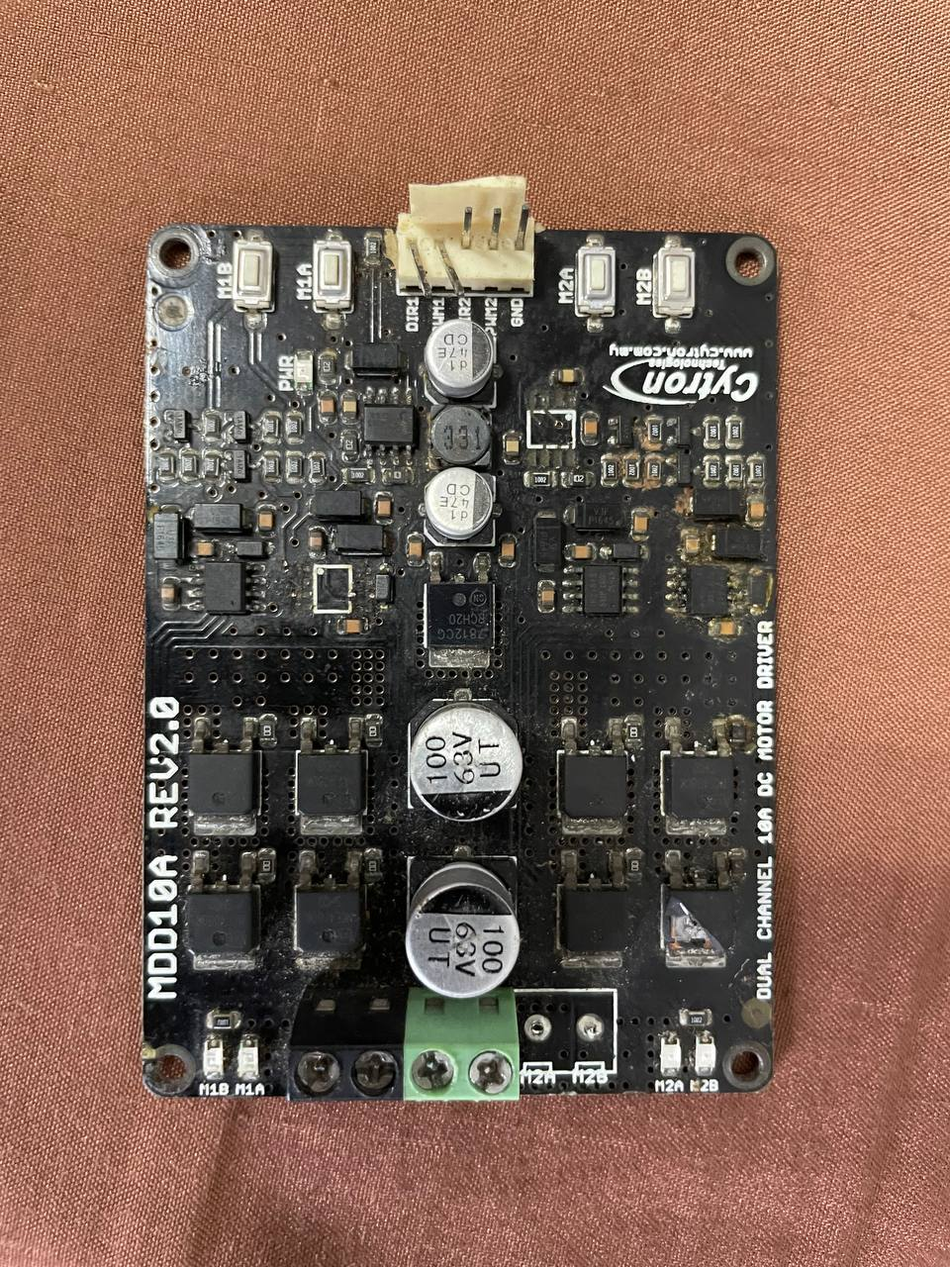bent_pin: (433, 235, 467, 303), (402, 235, 434, 302)
broken_comp: (656, 864, 743, 962)
missing_comp: (522, 404, 582, 455), (308, 559, 358, 616)
missing_tb: (510, 983, 623, 1088)
